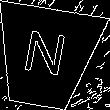N_S: (21, 29, 72, 86)
